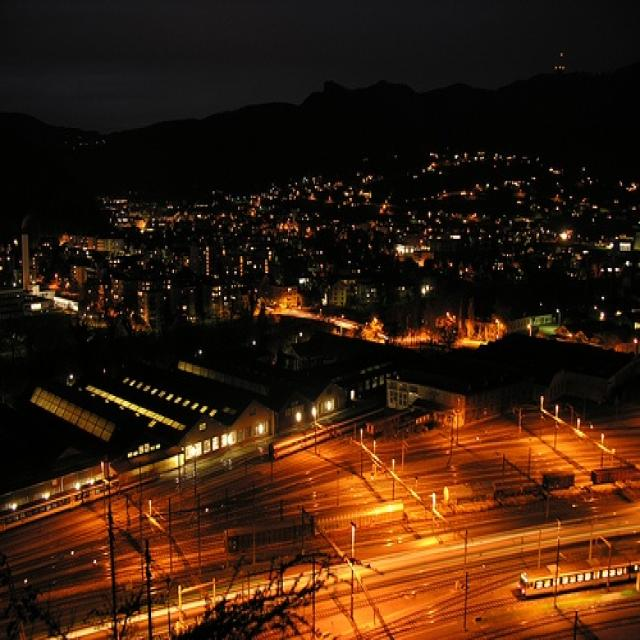train: (0, 469, 163, 531), (264, 403, 390, 464), (516, 550, 639, 598)
